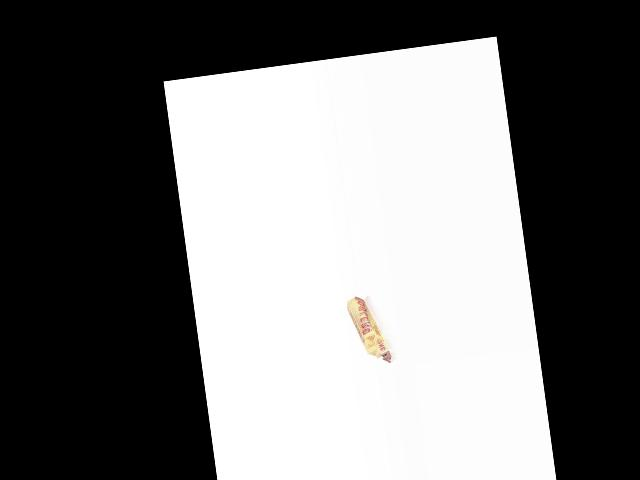chocolate: (344, 293, 395, 368)
